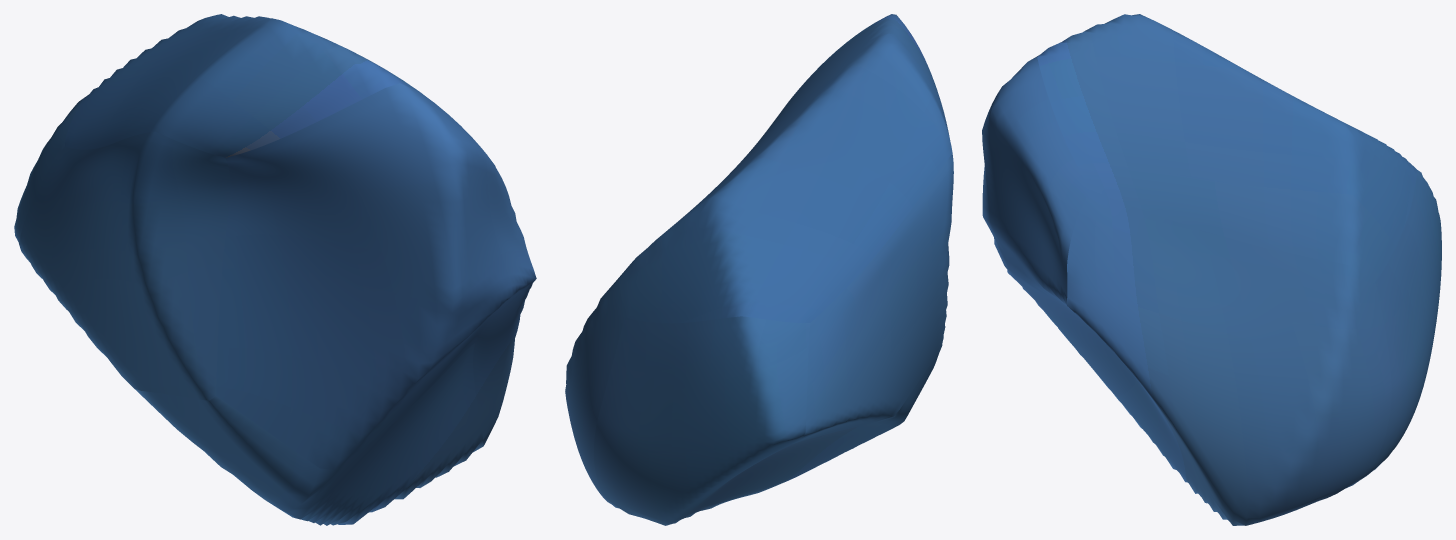
Rendered from rock.glb.
3 renders of one model, left to right at view 1: azimuth 30°, elevation 25°; view 2: azimuth 150°, elevation 25°; view 3: azimuth 270°, elevation 25°, orthographic. The views are drawn at different scales.
Visible parts, largest first — view 1: Cube; view 2: Cube; view 3: Cube.
Boxes of the visible parts, left/top/right/bottom form: Cube: left=14, top=14, right=536, bottom=525; Cube: left=565, top=14, right=953, bottom=525; Cube: left=982, top=14, right=1441, bottom=525.
Size of the model in its own units: 1.22 by 1.58 by 1.56.
Materials: 1 (1 with a texture image).
